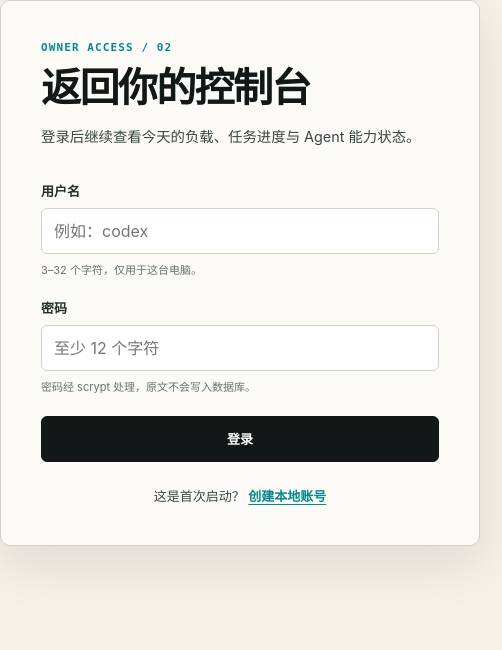
Test: AuthForm › explains how to recover when the local Core is unavailable
In the field labelled "用户名": (240, 231) [41, 208, 439, 254], type "codex"
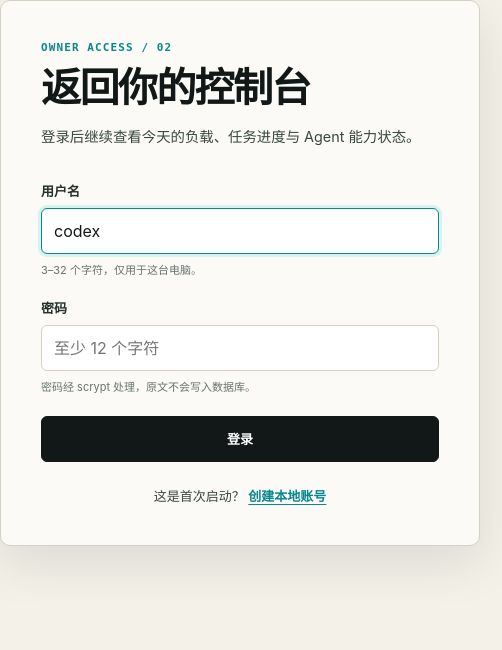
In the password field labelled "密码": (240, 348) [41, 326, 439, 372], type "correct horse battery staple"
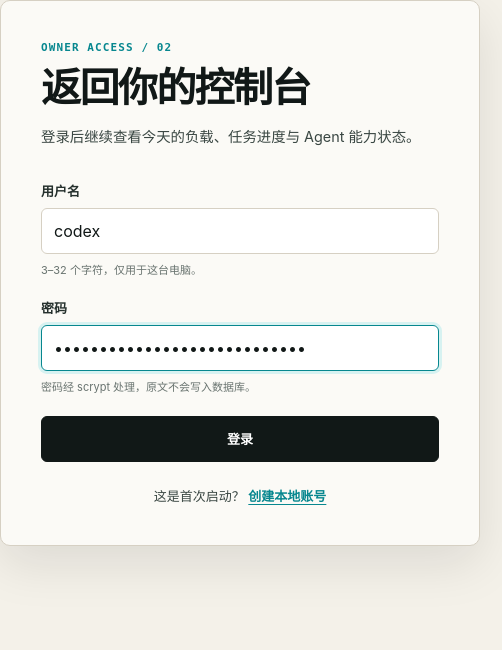
Click the button "登录": (240, 439) [41, 416, 439, 462]
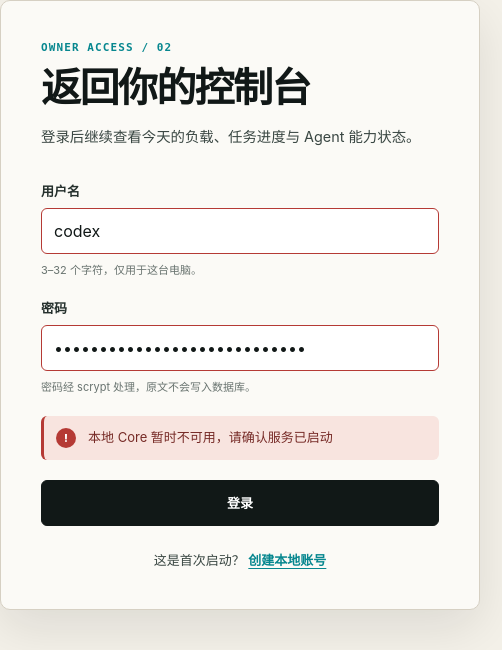
Check: the message shows "本地 Core 暂时不可用，请确认服务已启动", box [88, 429, 333, 445]
